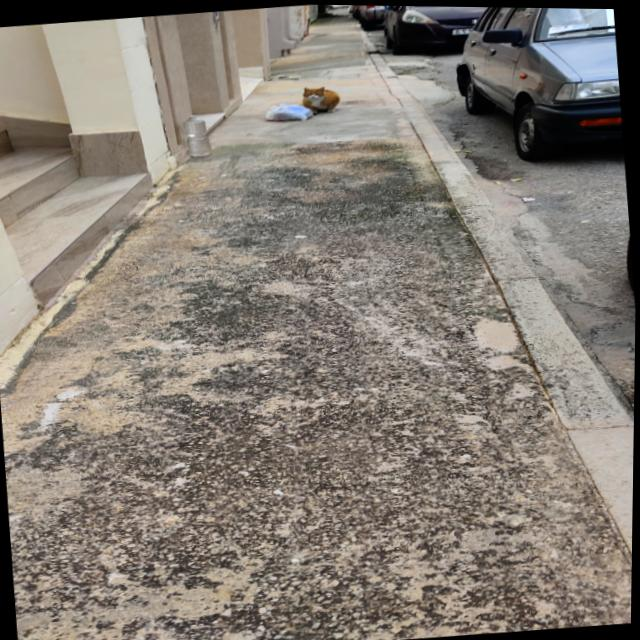Organic Waste -White Bags-: (263, 103, 310, 120)
